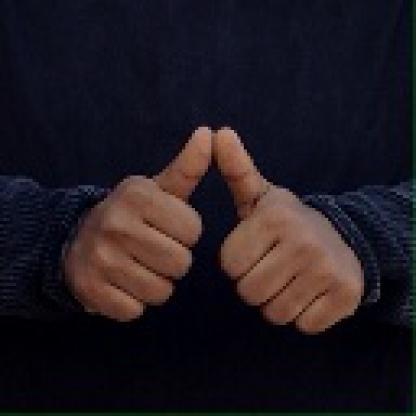A: (72, 119, 362, 336)
